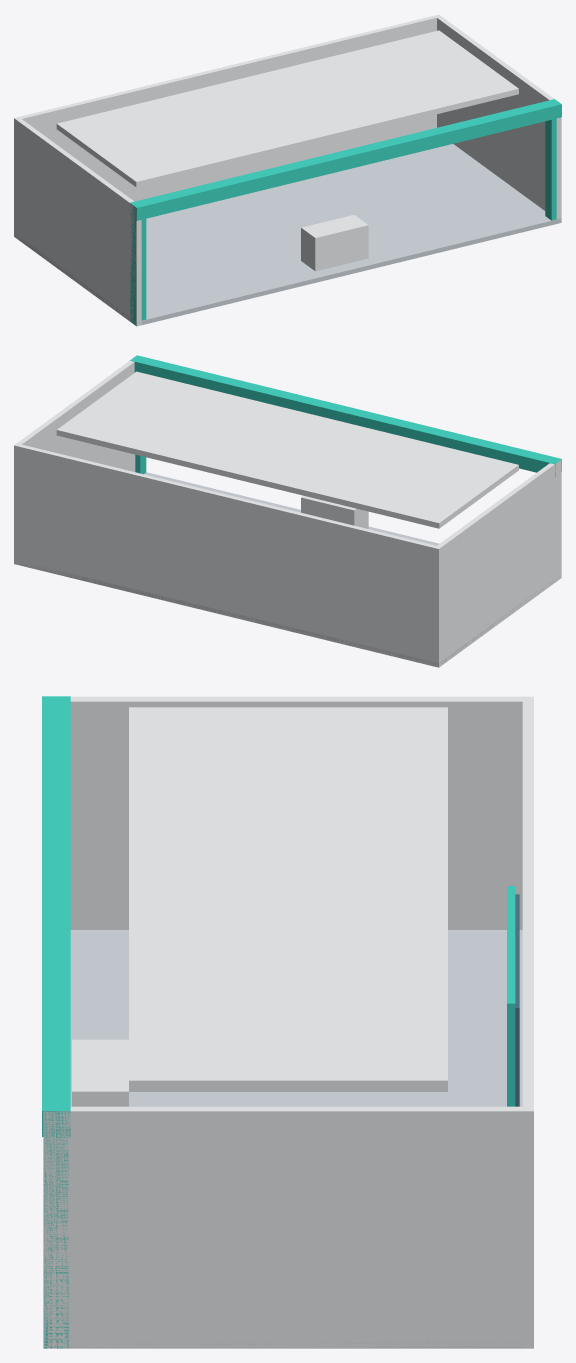
3 views of the same model, one above another, from view 1: azimuth 30°, elevation 25°; view 2: azimuth 150°, elevation 25°; view 3: azimuth 270°, elevation 25° (orthographic). The views are drawn at different scales.
Parts seen in each view (by area): view 1: Exhibition Booth Concept; view 2: Exhibition Booth Concept; view 3: Exhibition Booth Concept.
Boxes of the visible parts, x1,y1,x2,y2 form: Exhibition Booth Concept: [14, 14, 561, 326]; Exhibition Booth Concept: [14, 355, 561, 667]; Exhibition Booth Concept: [42, 696, 533, 1348].
Size of the model in its own units: 12 by 3.34 by 6.02.
